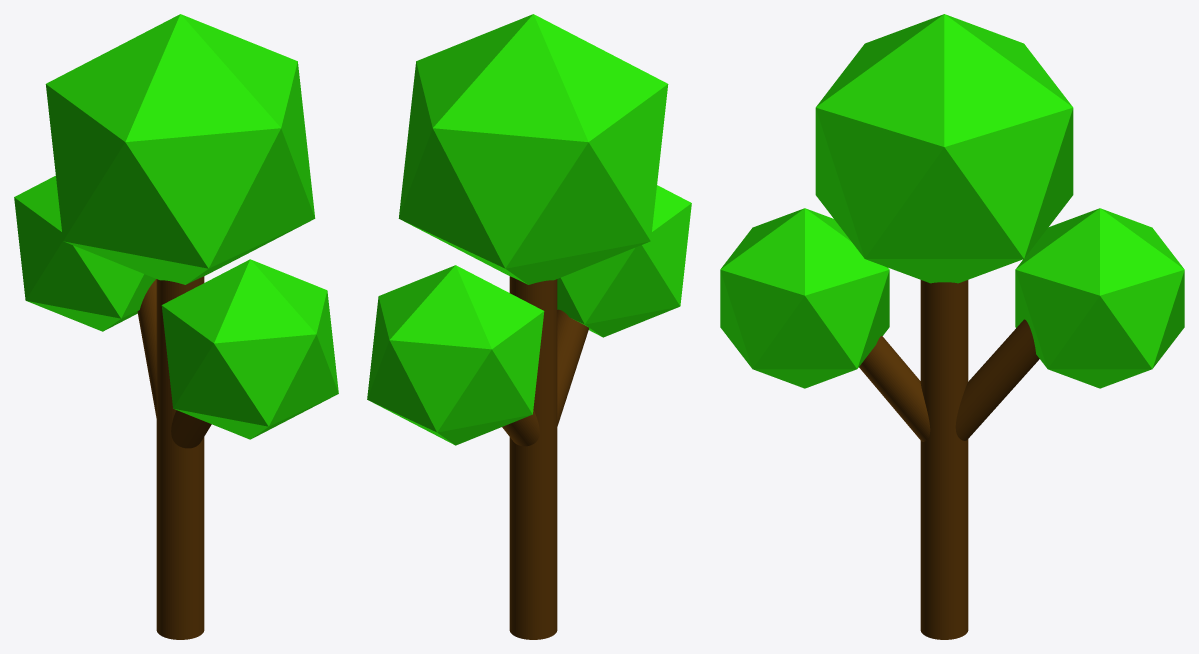
Rendered from tree.glb.
3 renders of one model, left to right at view 1: azimuth 30°, elevation 25°; view 2: azimuth 150°, elevation 25°; view 3: azimuth 270°, elevation 25°, orthographic.
Parts seen in each view (by area): view 1: tree -col; view 2: tree -col; view 3: tree -col.
Part boxes in pixels (box(x1,y1,x2,y2)): tree -col: box(14, 14, 338, 639); tree -col: box(367, 14, 691, 639); tree -col: box(720, 14, 1184, 639).
Size of the model in its own units: 11.38 by 28.53 by 19.5.
